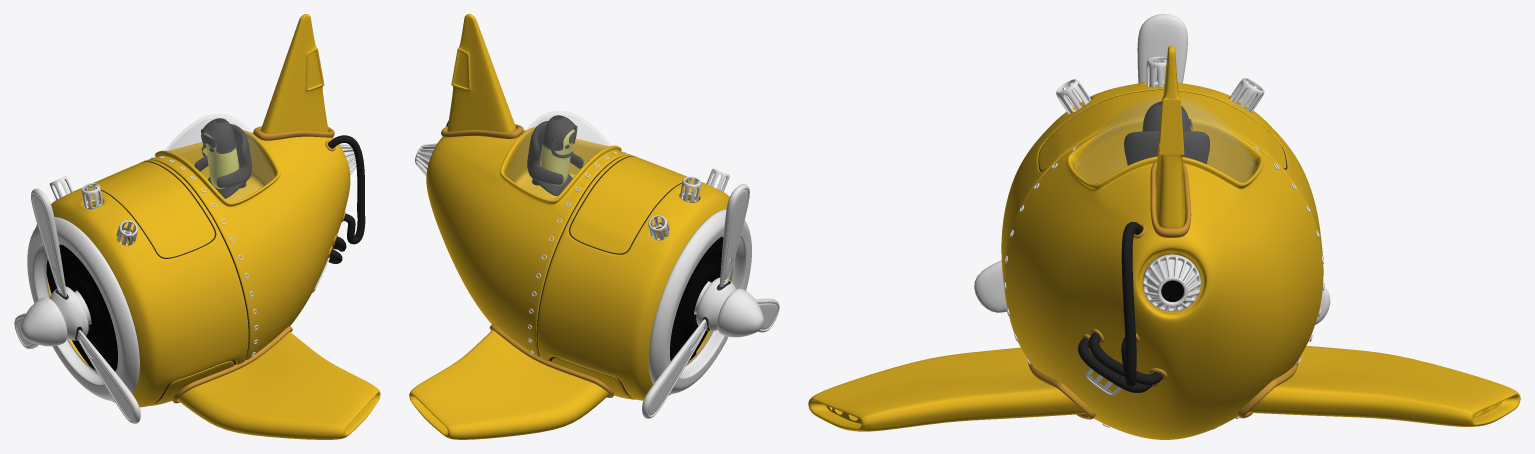
File: cartoon_aircraft_with_anim.glb
The picture shows the model from 3 angles, left to right: view 1: azimuth 30°, elevation 25°; view 2: azimuth 150°, elevation 25°; view 3: azimuth 270°, elevation 25°; orthographic projection. The views are drawn at different scales.
Parts seen in each view (by area): view 1: Torus.005, Cylinder.003; view 2: Torus.005, Cylinder.003; view 3: Torus.005, Cylinder.003.
Part boxes in pixels (bbox=[...]): Torus.005: bbox=[27, 14, 380, 439]; Cylinder.003: bbox=[14, 188, 140, 423]; Torus.005: bbox=[409, 14, 751, 439]; Cylinder.003: bbox=[642, 184, 779, 418]; Torus.005: bbox=[808, 45, 1520, 439]; Cylinder.003: bbox=[974, 14, 1330, 324].
Bounding box in the file's own units: 2.52 × 2.39 × 3.29.
